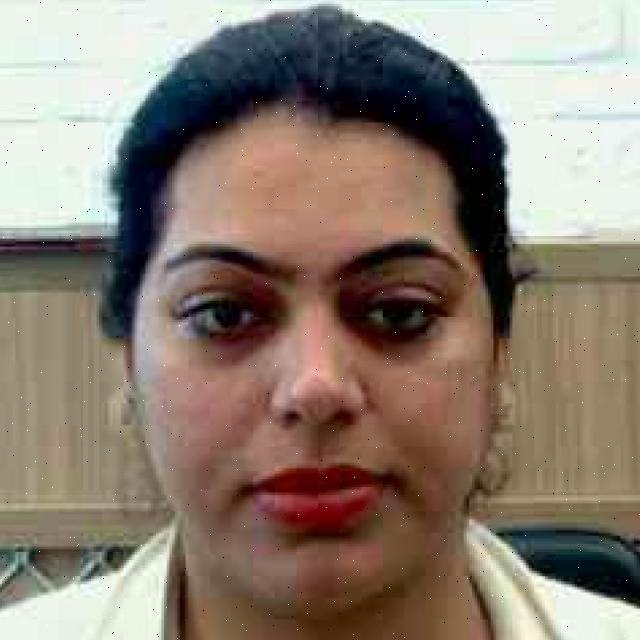puffy_eyes: (338, 293, 428, 363), (199, 333, 284, 362)
